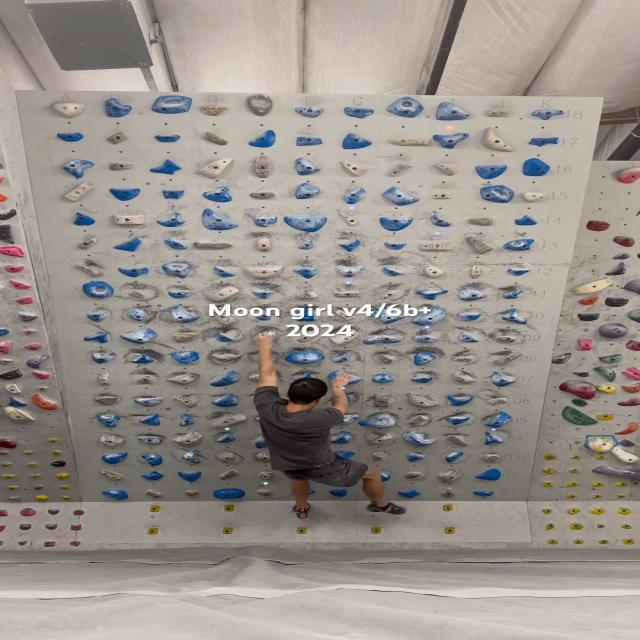A1: (102, 490, 129, 500)
A10: (86, 312, 108, 322)
A11: (82, 281, 114, 298)
A12: (74, 264, 104, 278)
A13: (78, 239, 97, 250)
A14: (73, 212, 95, 226)
A15: (64, 182, 96, 202)
A16: (61, 158, 94, 178)
A17: (56, 132, 84, 142)
A18: (49, 102, 85, 119)
A2: (99, 469, 124, 481)
A3: (100, 452, 128, 464)
A4: (99, 432, 126, 447)
A5: (98, 414, 121, 428)
A6: (95, 397, 118, 405)
A7: (99, 372, 111, 386)
A8: (91, 352, 117, 364)
A9: (84, 333, 108, 343)
B1: (144, 489, 162, 498)
B10: (128, 308, 148, 321)
B11: (128, 290, 145, 298)
B12: (117, 267, 149, 277)
B13: (112, 237, 142, 252)
B14: (112, 214, 146, 225)
B15: (109, 188, 140, 201)
B16: (108, 161, 133, 171)
B17: (106, 131, 130, 145)
B18: (105, 98, 132, 118)
B2: (140, 470, 164, 480)
B3: (140, 454, 163, 466)
B4: (136, 436, 162, 445)
B5: (138, 413, 160, 426)
B6: (133, 397, 164, 407)
B7: (131, 374, 157, 385)
B8: (130, 353, 154, 363)
B9: (120, 327, 157, 344)
C1: (184, 491, 200, 496)
C10: (169, 305, 200, 323)
C11: (168, 291, 192, 298)
C12: (162, 263, 192, 278)
C13: (164, 238, 188, 250)
C14: (156, 212, 186, 228)
C15: (162, 190, 184, 200)
C16: (149, 159, 182, 175)
C17: (154, 134, 180, 143)
C18: (151, 95, 193, 114)
C2: (177, 471, 202, 482)
C3: (180, 449, 202, 464)
C4: (171, 431, 203, 446)
C5: (179, 414, 196, 426)
C6: (172, 395, 198, 408)
C7: (167, 372, 200, 386)
C8: (170, 350, 200, 364)
C9: (173, 333, 199, 342)
D1: (213, 488, 245, 499)
D11: (205, 285, 239, 303)
D12: (212, 266, 236, 278)
D13: (193, 241, 233, 249)
D14: (201, 208, 238, 230)
D15: (202, 186, 232, 203)
D16: (197, 156, 234, 180)
D17: (201, 132, 229, 146)
D18: (199, 105, 230, 116)
D2: (218, 470, 238, 480)
D3: (220, 453, 236, 462)
D4: (215, 432, 237, 443)
D5: (211, 412, 247, 428)
D6: (211, 393, 239, 407)
D7: (209, 370, 242, 387)
D8: (211, 354, 242, 362)
D9: (216, 331, 236, 342)
E1: (256, 489, 273, 497)
E11: (252, 291, 274, 299)
E12: (244, 266, 284, 280)
E13: (256, 237, 271, 252)
E14: (252, 216, 278, 227)
E15: (250, 192, 275, 198)
E16: (254, 154, 272, 178)
E17: (248, 129, 276, 148)
E18: (246, 94, 275, 116)
E2: (257, 472, 274, 481)
F: (223, 504, 236, 512), (148, 505, 162, 512), (147, 527, 159, 535), (442, 504, 454, 512), (444, 526, 456, 534), (371, 526, 382, 534), (222, 527, 234, 534), (296, 527, 308, 534)
F11: (296, 288, 318, 299)
F12: (292, 267, 318, 279)
F13: (296, 239, 316, 250)
F14: (283, 215, 328, 233)
F15: (295, 182, 321, 200)
F16: (295, 157, 321, 176)
F17: (296, 136, 322, 146)
F18: (294, 106, 325, 118)
F8: (284, 350, 326, 364)
G1: (329, 488, 348, 498)
G11: (334, 290, 361, 298)
G12: (335, 266, 364, 276)
G13: (339, 240, 362, 252)
G14: (338, 212, 358, 227)
G15: (343, 188, 367, 205)
G16: (341, 160, 368, 178)
G17: (342, 133, 372, 149)
G18: (343, 106, 374, 119)
G4: (327, 430, 352, 444)
G8: (331, 352, 353, 363)
H11: (379, 289, 398, 300)
H12: (382, 266, 404, 276)
H13: (384, 241, 408, 250)
H14: (379, 216, 413, 232)
H15: (381, 186, 420, 206)
H16: (389, 162, 412, 177)
H17: (388, 137, 431, 147)
H18: (386, 96, 424, 118)
H3: (370, 452, 384, 461)
H4: (368, 432, 394, 446)
H5: (358, 412, 396, 428)
H6: (373, 393, 392, 408)
H7: (371, 373, 395, 383)
H8: (377, 353, 394, 364)
H9: (362, 334, 402, 346)
I1: (398, 489, 422, 498)
I11: (414, 290, 448, 300)
I12: (422, 265, 444, 278)
I13: (417, 242, 455, 251)
I14: (430, 214, 452, 227)
I15: (431, 193, 452, 200)
I16: (434, 162, 456, 176)
I17: (432, 132, 470, 150)
I18: (436, 101, 469, 121)
I2: (405, 472, 422, 479)
I3: (406, 452, 425, 462)
I4: (405, 436, 437, 447)
I5: (408, 414, 428, 424)
I6: (406, 392, 439, 408)
I7: (410, 376, 434, 384)
I8: (414, 352, 435, 366)
I9: (411, 334, 438, 344)
J1: (440, 487, 456, 498)
J10: (456, 313, 481, 321)
J11: (458, 286, 487, 300)
J12: (469, 266, 482, 280)
J13: (466, 236, 494, 255)
J14: (466, 217, 494, 226)
J15: (480, 185, 514, 203)
J16: (474, 164, 508, 180)
J17: (481, 127, 515, 152)
J18: (486, 109, 514, 117)
J2: (437, 468, 464, 484)
J3: (444, 451, 464, 463)
J4: (448, 435, 470, 446)
J5: (444, 416, 470, 425)
J6: (446, 395, 474, 406)
J7: (450, 372, 476, 384)
J8: (453, 356, 472, 362)
J9: (458, 331, 480, 343)
K1: (472, 490, 494, 497)
K10: (501, 308, 528, 325)
K11: (502, 289, 524, 299)
K12: (507, 268, 531, 276)
K13: (502, 238, 535, 250)
K14: (514, 214, 538, 226)
K15: (523, 191, 547, 202)
K16: (522, 158, 551, 176)
K17: (528, 137, 559, 147)
K18: (530, 109, 565, 120)
K2: (474, 468, 502, 481)
K3: (479, 454, 499, 462)
K4: (484, 431, 504, 445)
K5: (486, 411, 513, 428)
K6: (489, 399, 508, 405)
K7: (491, 371, 517, 387)
K8: (493, 352, 521, 366)
K9: (494, 336, 516, 343)
